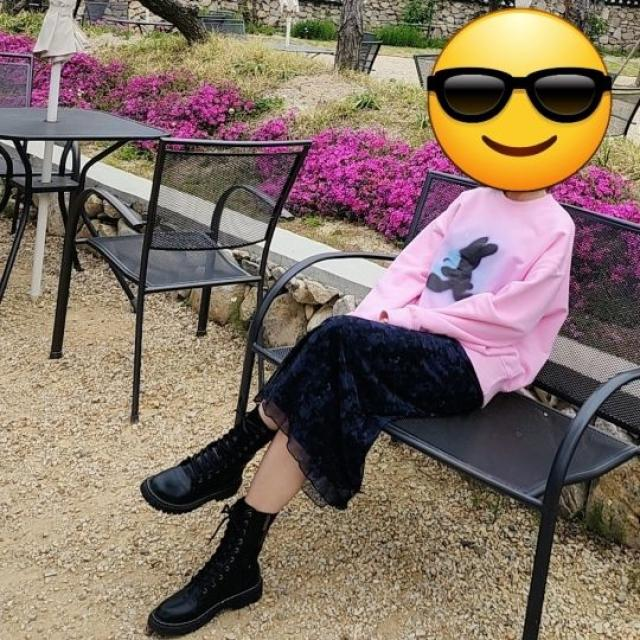mtm: (341, 185, 574, 407)
skirt: (254, 313, 480, 511)
